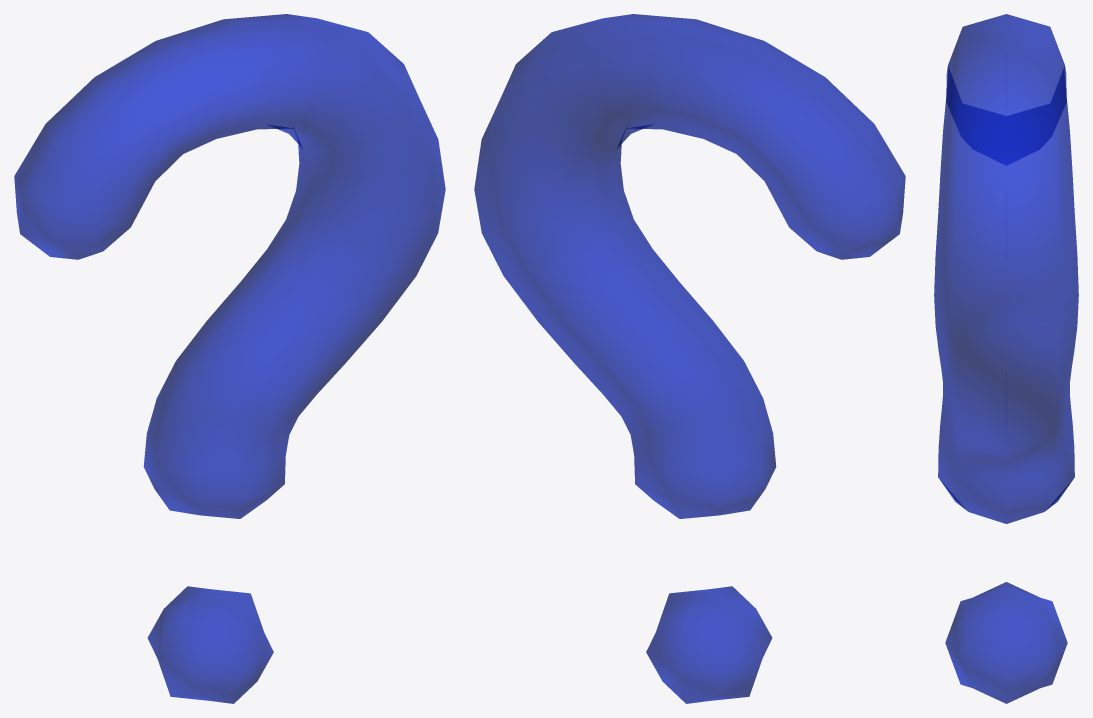
File: question.dae
The picture shows the model from 3 angles, left to right: view 1: azimuth 30°, elevation 25°; view 2: azimuth 150°, elevation 25°; view 3: azimuth 270°, elevation 25°; orthographic projection.
Parts seen in each view (by area): view 1: Cube; view 2: Cube; view 3: Cube.
Part boxes in pixels (x1,y1,x2,y2): Cube: [14, 14, 445, 703]; Cube: [474, 14, 905, 703]; Cube: [934, 14, 1078, 703].
Bounding box in the file's own units: 3.13 × 0.9569 × 4.84.
